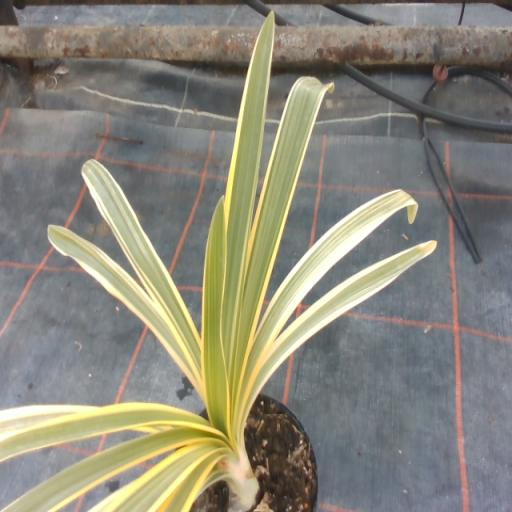Agapanthus-praecox: (251, 241, 436, 396), (254, 190, 417, 354), (48, 225, 200, 388), (82, 160, 198, 372), (240, 77, 331, 335), (221, 15, 273, 390), (3, 427, 214, 511), (0, 403, 221, 459), (104, 444, 215, 511), (202, 198, 228, 432), (164, 454, 219, 511)
